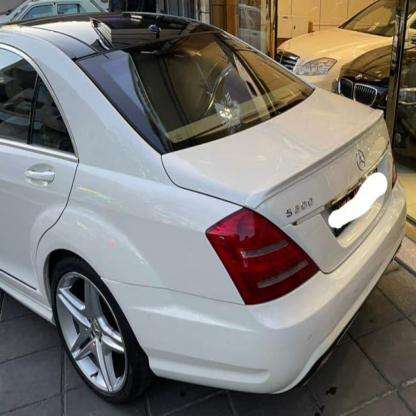Car: (0, 22, 411, 416), (263, 0, 416, 98), (329, 41, 416, 167), (0, 0, 116, 40)
